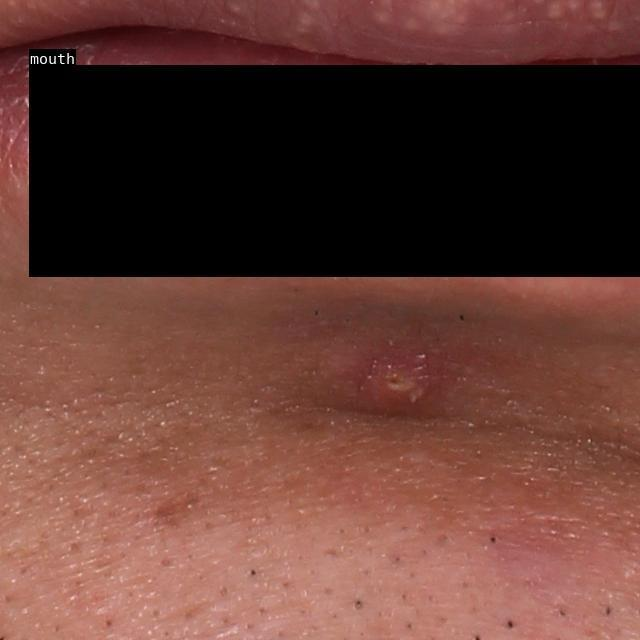pustule: (367, 353, 434, 408)
